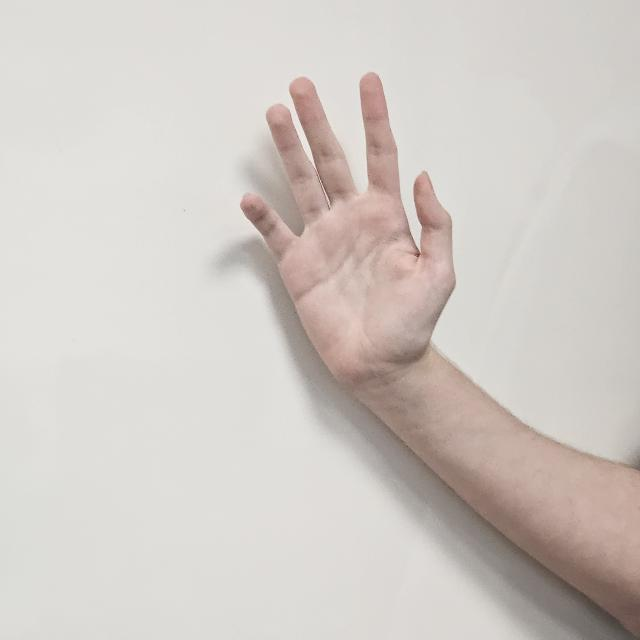X: (232, 65, 470, 375)
